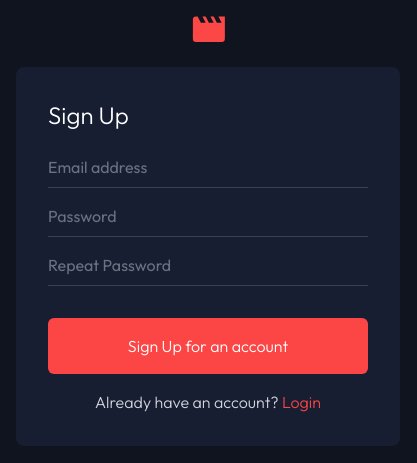
Test: Signup › shows error when passwords do not match
The image size is (417, 463).
Type "test@example.com" into the field labelled "Email address" at (208, 171), box [48,155,368,187]
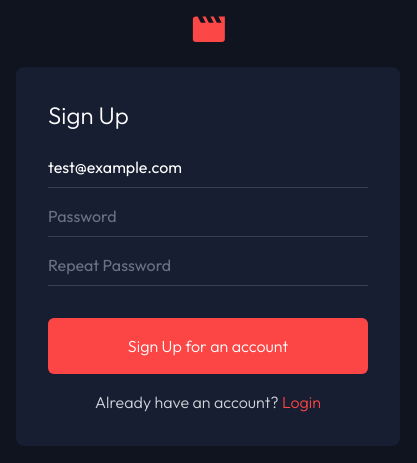
Type "password123" into the password field labelled "Password" at (208, 220), box [48,204,368,236]
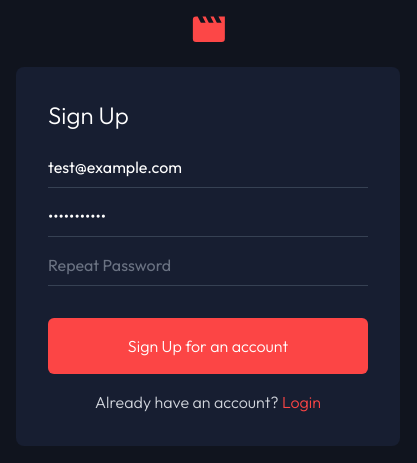
Type "different123" into the password field labelled "Repeat Password" at (208, 269), box [48,253,368,285]
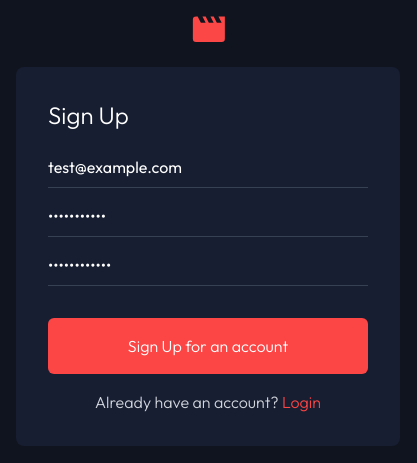
Click the button "Sign Up for an account" at (208, 346), box [48,318,368,374]
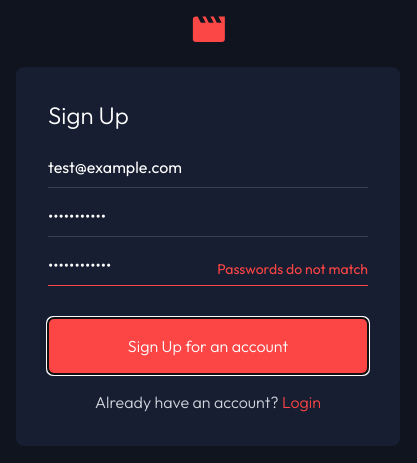
Check: the text "Passwords do not match" is shown, box [217,259,368,279]
